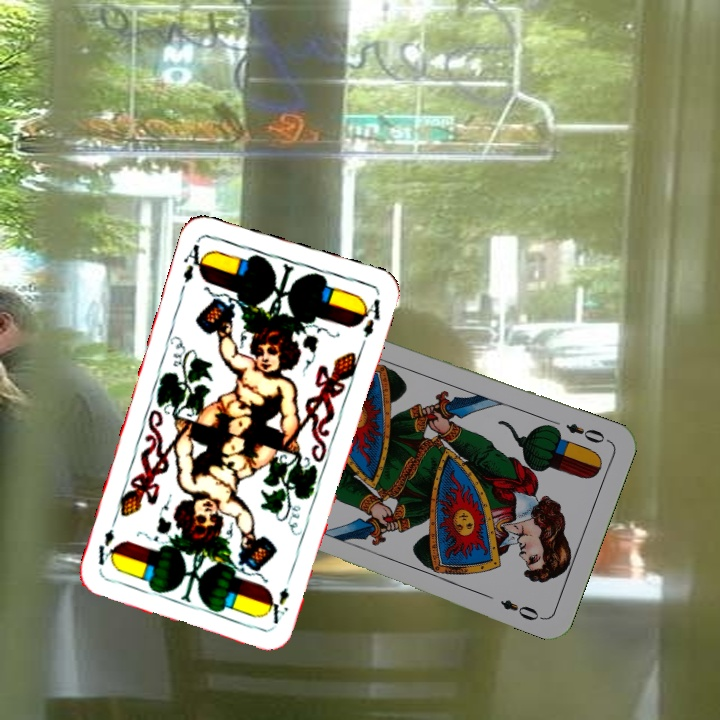EA: (179, 238, 210, 285), (269, 583, 292, 627)
EO: (561, 419, 608, 446)
